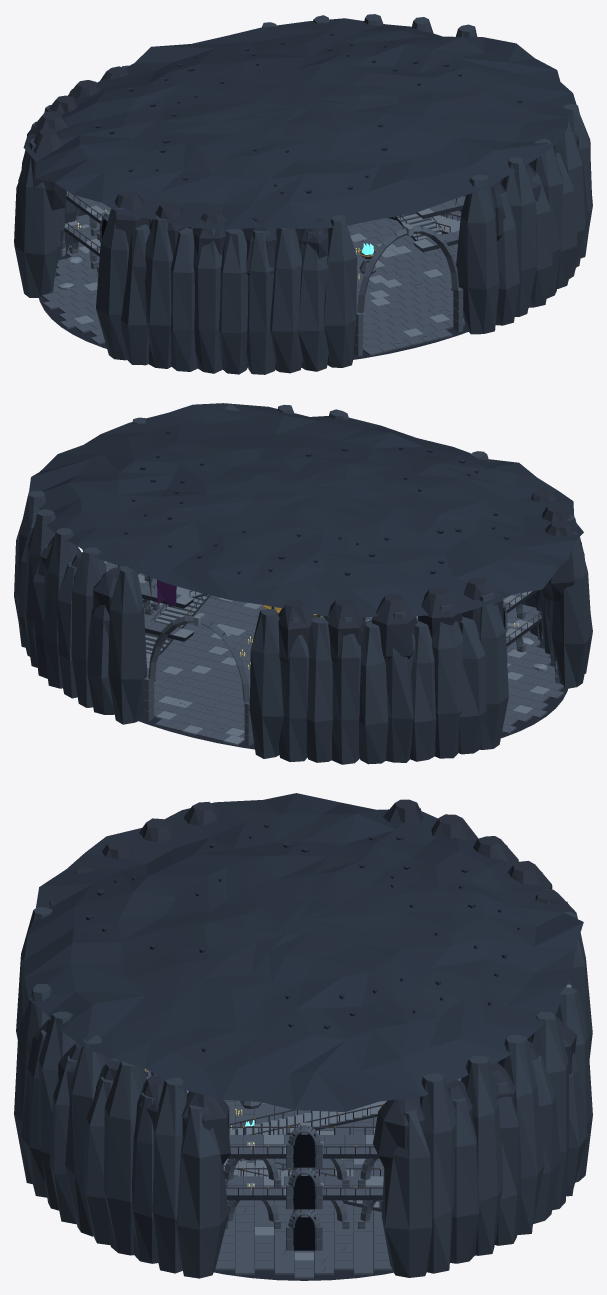
The model's file is cellar-room-03.glb.
The picture shows the model from 3 angles, top to bottom: view 1: azimuth 30°, elevation 25°; view 2: azimuth 150°, elevation 25°; view 3: azimuth 270°, elevation 25°; orthographic projection. The views are drawn at different scales.
Parts seen in each view (by area): view 1: Cellar 3 ceiling, Cellar 3 rock, Cellar 3 stone_floor, Cellar 3 stone_dark, Cellar 3 stone, Cellar 3 stone_light, Cellar 3 stone_floor_light, Cellar 3 mortar; view 2: Cellar 3 ceiling, Cellar 3 rock, Cellar 3 stone_floor, Cellar 3 stone_dark, Cellar 3 stone, Cellar 3 stone_floor_light, Cellar 3 stone_light, Cellar 3 mortar; view 3: Cellar 3 ceiling, Cellar 3 rock, Cellar 3 stone_dark, Cellar 3 stone_floor, Cellar 3 stone, Cellar 3 stone_light, Cellar 3 void, Cellar 3 iron, Cellar 3 mortar, Cellar 3 stone_floor_light.
Boxes of the visible parts, x1,y1,x2,y2 form: Cellar 3 ceiling: (23,18,576,229); Cellar 3 rock: (14,14,592,374); Cellar 3 stone_floor: (42,210,465,355); Cellar 3 stone_dark: (27,66,578,290); Cellar 3 stone: (49,180,500,356); Cellar 3 stone_light: (58,191,460,289); Cellar 3 stone_floor_light: (74,233,449,336); Cellar 3 mortar: (38,249,468,367); Cellar 3 ceiling: (29,403,583,618); Cellar 3 rock: (14,404,592,764); Cellar 3 stone_floor: (143,597,564,742); Cellar 3 stone_dark: (29,460,582,681); Cellar 3 stone: (103,561,559,745); Cellar 3 stone_floor_light: (146,600,550,745); Cellar 3 stone_light: (104,561,557,707); Cellar 3 mortar: (137,633,568,749); Cellar 3 ceiling: (24,793,583,1111); Cellar 3 rock: (14,808,592,1278); Cellar 3 stone_dark: (27,799,576,1211); Cellar 3 stone_floor: (113,1058,461,1278); Cellar 3 stone: (224,1101,383,1250); Cellar 3 stone_light: (144,984,571,1243); Cellar 3 void: (146,1070,315,1250); Cellar 3 iron: (223,1104,383,1208); Cellar 3 mortar: (116,1059,393,1280); Cellar 3 stone_floor_light: (156,1075,375,1260).
Bounding box in the file's own units: 95.22 × 30.47 × 76.05.
